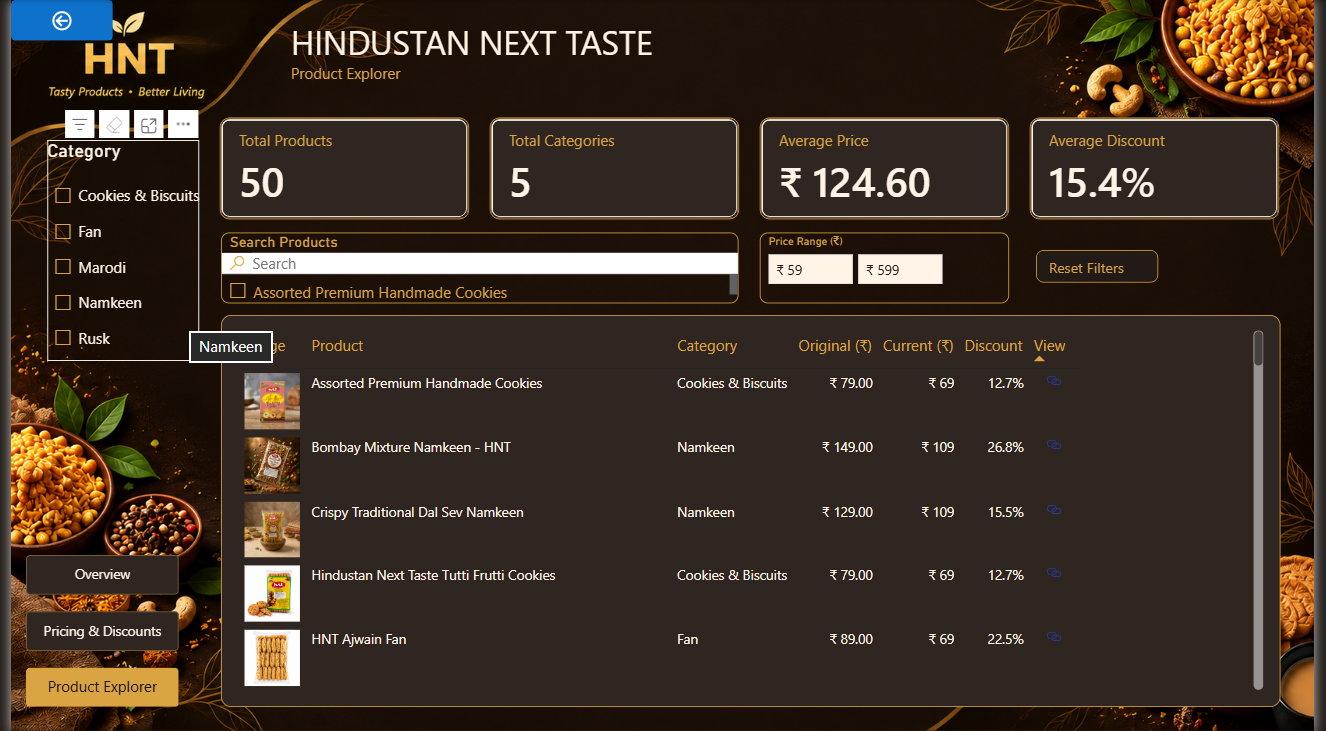

This screenshot's page, from the dashboard's own definition file:
{"tool":"powerbi","page":{"name":"Product Explorer","canvas":[1280,720],"ordinal":2},"visuals":[{"type":"textbox","box":[275,19.4,730.6,75],"z":0},{"type":"cardVisual","fields":{"Data":["Products.Total Products"]},"box":[205,115,245,100],"z":1000},{"type":"cardVisual","fields":{"Data":["Products.Total Categories"]},"box":[470,115,245,100],"z":2000},{"type":"cardVisual","fields":{"Data":["Products.Average Price"]},"box":[735,115,245,100],"z":3000},{"type":"cardVisual","fields":{"Data":["Products.Average Discount"]},"box":[1000,115,245,100],"z":4000},{"type":"slicer","title":"Category","fields":{"Values":["Shop_Products.Category"]},"box":[36.1,137.5,149.6,216.8],"z":5000},{"type":"pageNavigator","box":[15.1,544.8,150,150],"z":6000},{"type":"tableEx","fields":{"Values":["Shop_Products.Image_URL","Shop_Products.Product_Name","Shop_Products.Category","Shop_Products.Original_Price","Shop_Products.Price","Shop_Products.Discount_Percent","Shop_Products.Product_URL"]},"box":[205.6,309.7,1040,385],"z":8000},{"type":"actionButton","box":[0,0,100,40],"z":9000},{"type":"slicer","title":"Search Products","fields":{"Values":["Shop_Products.Product_Name"]},"box":[205.6,227.8,508.3,69.4],"z":10000},{"type":"slicer","fields":{"Values":["Shop_Products.Price"]},"box":[734.7,227.8,244.4,69.4],"z":11000},{"type":"actionButton","box":[1005.6,245.8,120,32],"z":11001}]}

Visuals, with their boxes on the page's 1280x720 design canvas (x1, y1, x2, y2). These are canvas units, not pixel positions in the 1326x731 screenshot, which may show the page scaled, cropped or inside an application window:
textbox: [275, 19, 1006, 94]
cardVisual - Products.Total Products: [205, 115, 450, 215]
cardVisual - Products.Total Categories: [470, 115, 715, 215]
cardVisual - Products.Average Price: [735, 115, 980, 215]
cardVisual - Products.Average Discount: [1000, 115, 1245, 215]
"Category" slicer: [36, 138, 186, 354]
pageNavigator: [15, 545, 165, 695]
tableEx - Shop_Products.Image_URL x Shop_Products.Product_Name: [206, 310, 1246, 695]
actionButton: [0, 0, 100, 40]
"Search Products" slicer: [206, 228, 714, 297]
slicer - Shop_Products.Price: [735, 228, 979, 297]
actionButton: [1006, 246, 1126, 278]
